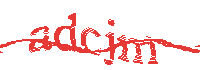c: (81, 27, 101, 58)
d: (55, 12, 78, 53)
j: (104, 18, 117, 67)
m: (119, 35, 157, 66), (29, 26, 51, 52)
